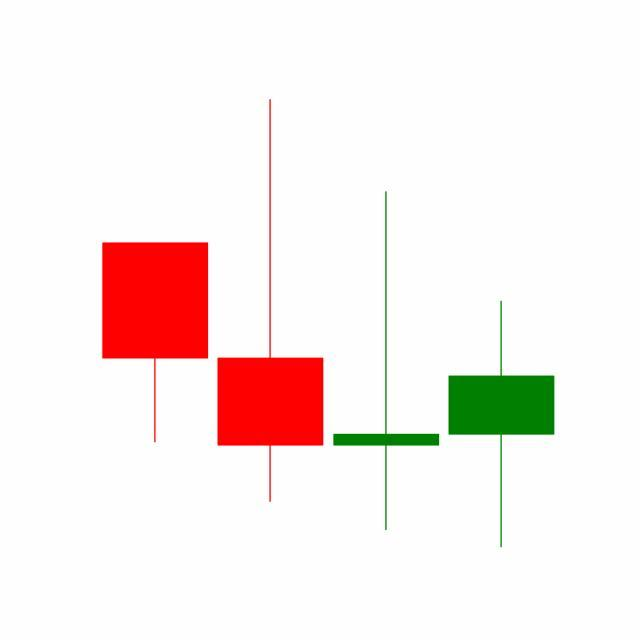Spinning Top: (329, 187, 445, 535)
